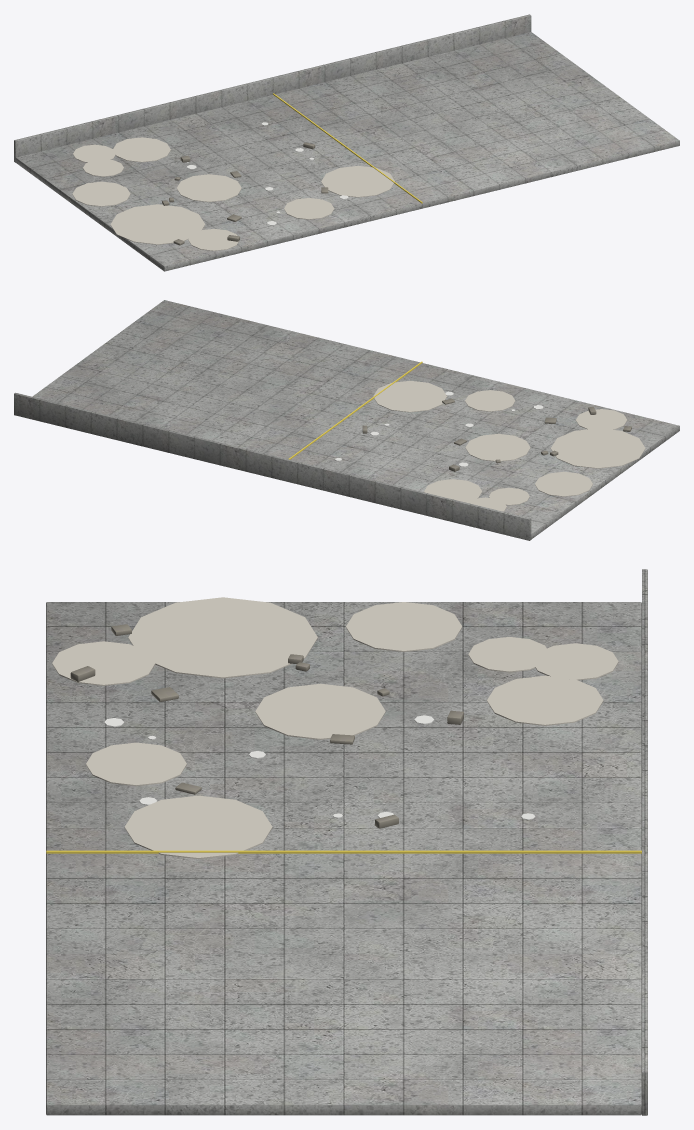
File: LIM-FIN-001.glb
The picture shows the model from 3 angles, top to bottom: view 1: azimuth 30°, elevation 25°; view 2: azimuth 150°, elevation 25°; view 3: azimuth 270°, elevation 25°; orthographic projection. The views are drawn at different scales.
Visible parts, largest first — view 1: LIM-FIN-001_piso, LIM-FIN-001_rodape, LIM-FIN-001_poeira7, LIM-FIN-001_poeira2, LIM-FIN-001_poeira3, LIM-FIN-001_poeira8, LIM-FIN-001_poeira6, LIM-FIN-001_poeira1, LIM-FIN-001_poeira5, LIM-FIN-001_poeira0, LIM-FIN-001_poeira4, LIM-FIN-001_divisa; view 2: LIM-FIN-001_piso, LIM-FIN-001_rodape, LIM-FIN-001_poeira7, LIM-FIN-001_poeira2, LIM-FIN-001_poeira3, LIM-FIN-001_poeira8, LIM-FIN-001_poeira6, LIM-FIN-001_poeira1, LIM-FIN-001_poeira5, LIM-FIN-001_poeira4; view 3: LIM-FIN-001_piso, LIM-FIN-001_poeira7, LIM-FIN-001_poeira2, LIM-FIN-001_poeira3, LIM-FIN-001_poeira6, LIM-FIN-001_poeira8, LIM-FIN-001_poeira1, LIM-FIN-001_rodape, LIM-FIN-001_poeira5, LIM-FIN-001_poeira0, LIM-FIN-001_divisa, LIM-FIN-001_poeira4.
Part boxes in pixels (x1=…): LIM-FIN-001_piso: x1=15, y1=32, x2=679, y2=271; LIM-FIN-001_rodape: x1=14, y1=14, x2=531, y2=162; LIM-FIN-001_poeira7: x1=110, y1=204, x2=205, y2=244; LIM-FIN-001_poeira2: x1=321, y1=166, x2=395, y2=197; LIM-FIN-001_poeira3: x1=176, y1=174, x2=241, y2=202; LIM-FIN-001_poeira8: x1=72, y1=181, x2=130, y2=206; LIM-FIN-001_poeira6: x1=113, y1=137, x2=170, y2=162; LIM-FIN-001_poeira1: x1=284, y1=198, x2=334, y2=219; LIM-FIN-001_poeira5: x1=188, y1=229, x2=239, y2=250; LIM-FIN-001_poeira0: x1=73, y1=144, x2=115, y2=162; LIM-FIN-001_poeira4: x1=83, y1=160, x2=123, y2=176; LIM-FIN-001_divisa: x1=273, y1=93, x2=422, y2=203; LIM-FIN-001_piso: x1=32, y1=300, x2=679, y2=539; LIM-FIN-001_rodape: x1=14, y1=392, x2=531, y2=540; LIM-FIN-001_poeira7: x1=550, y1=428, x2=645, y2=468; LIM-FIN-001_poeira2: x1=373, y1=380, x2=446, y2=412; LIM-FIN-001_poeira3: x1=465, y1=433, x2=530, y2=461; LIM-FIN-001_poeira8: x1=535, y1=471, x2=592, y2=496; LIM-FIN-001_poeira6: x1=424, y1=479, x2=482, y2=502; LIM-FIN-001_poeira1: x1=465, y1=390, x2=515, y2=411; LIM-FIN-001_poeira5: x1=575, y1=409, x2=627, y2=429; LIM-FIN-001_poeira4: x1=489, y1=487, x2=529, y2=505; LIM-FIN-001_piso: x1=46, y1=602, x2=641, y2=1115; LIM-FIN-001_poeira7: x1=128, y1=597, x2=317, y2=678; LIM-FIN-001_poeira2: x1=124, y1=795, x2=272, y2=858; LIM-FIN-001_poeira3: x1=255, y1=683, x2=385, y2=739; LIM-FIN-001_poeira6: x1=487, y1=675, x2=603, y2=725; LIM-FIN-001_poeira8: x1=346, y1=602, x2=462, y2=651; LIM-FIN-001_poeira1: x1=86, y1=742, x2=186, y2=786; LIM-FIN-001_rodape: x1=642, y1=569, x2=647, y2=1115; LIM-FIN-001_poeira5: x1=52, y1=641, x2=155, y2=685; LIM-FIN-001_poeira0: x1=532, y1=643, x2=618, y2=680; LIM-FIN-001_divisa: x1=46, y1=850, x2=641, y2=853; LIM-FIN-001_poeira4: x1=468, y1=637, x2=546, y2=672.
Bounding box in the file's own units: 2.01 × 0.08 × 1.01.
Materials: 5 (2 with a texture image).
